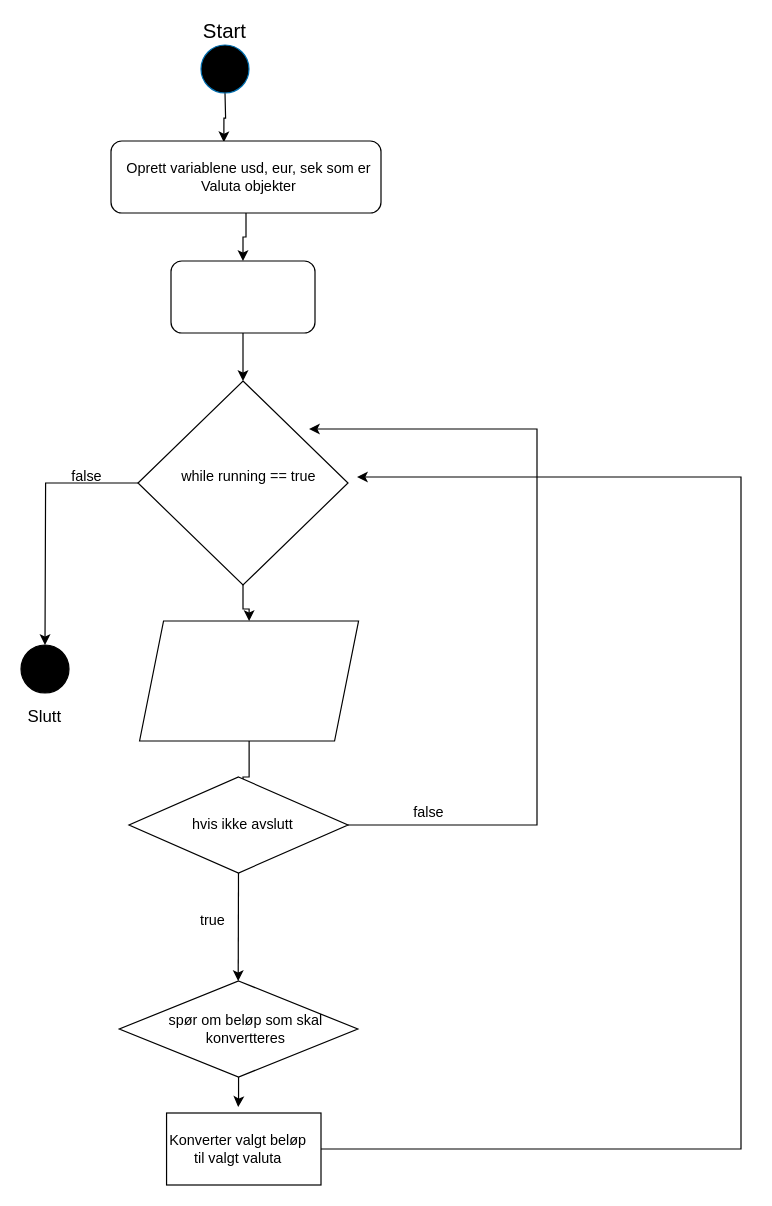
This 772x1206 diagram has some shape labels left out. Here are the shapes that lost their labels. From the top down, the centre of each, then its label:
At point (242, 296): "running = true".
At point (248, 680): "spør bruker om hvilken valuta eller avslutt".
